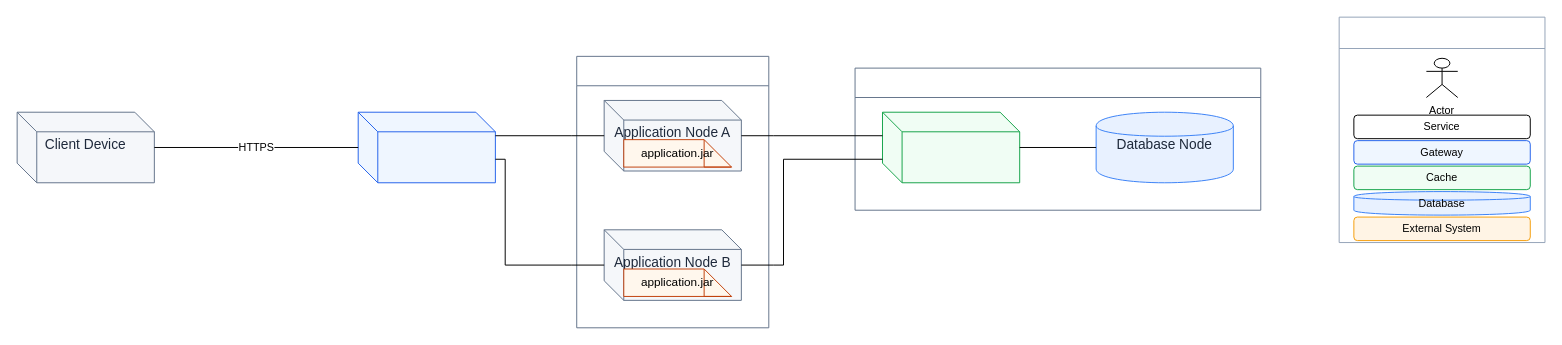
The diagram is 1562 pixels wide and 345 high, and some of its shapes have lost their labels. Each missing label, with the box of its shape:
Application Cluster: (576, 55, 769, 328)
Data Network: (854, 67, 1261, 210)
Legend: (1338, 16, 1545, 243)
Load Balancer: (357, 111, 495, 183)
Redis Node: (882, 111, 1020, 183)
